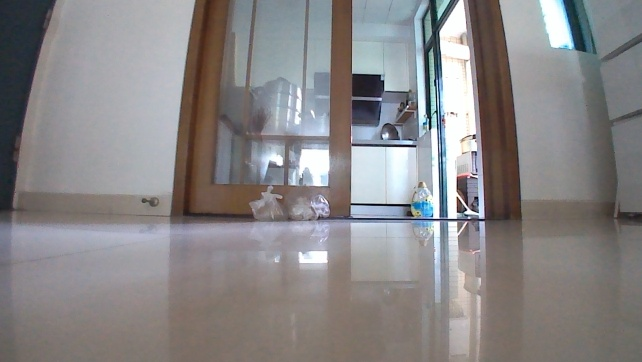cupboard: (350, 133, 419, 215)
